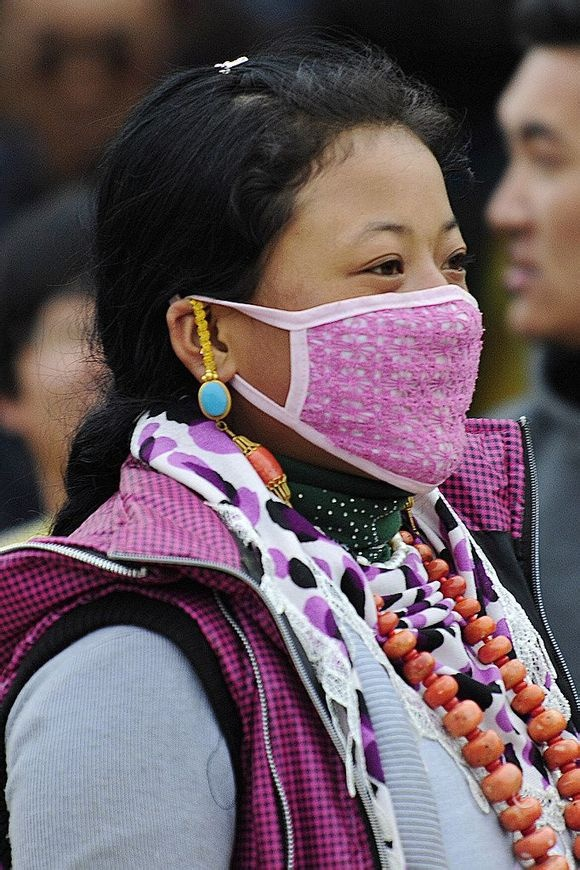Mask: (272, 205, 531, 465)
